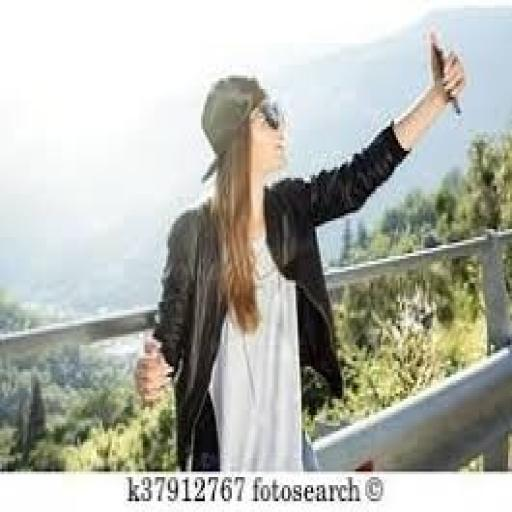texting: (132, 24, 468, 472)
